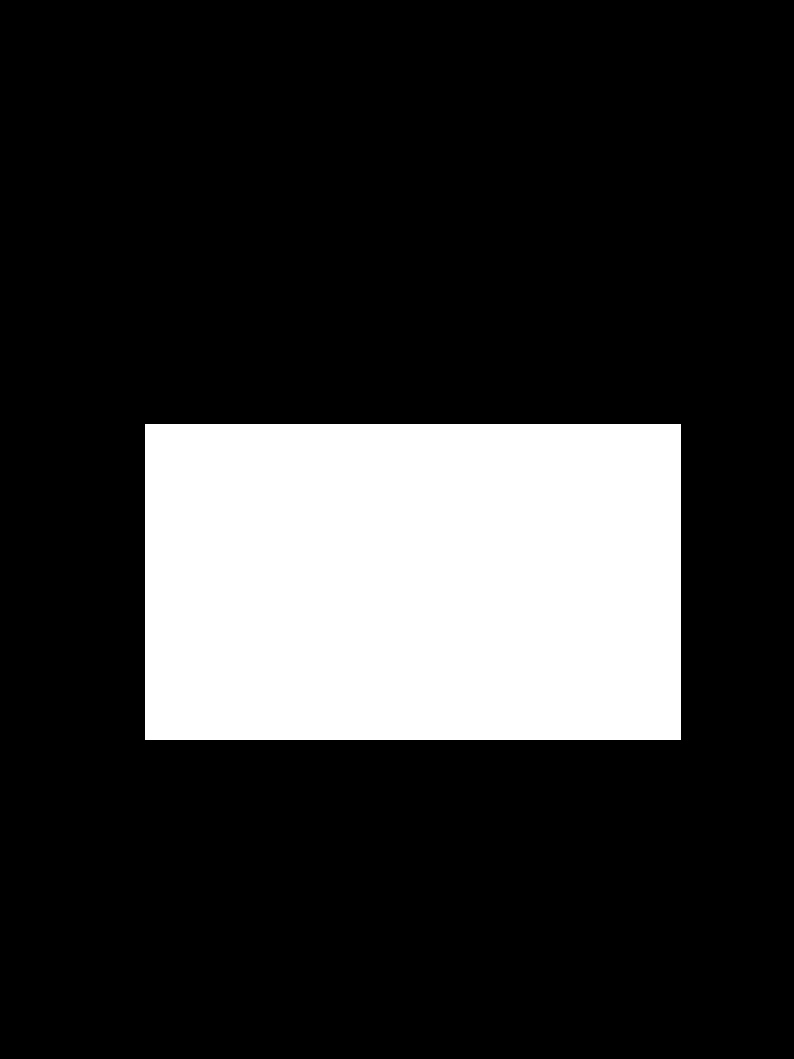table: (145, 424, 680, 739)
